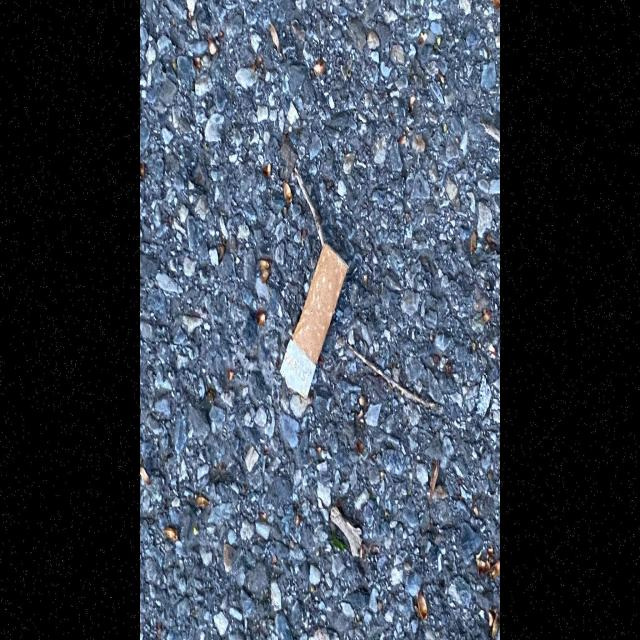other waste: (278, 239, 349, 402)
